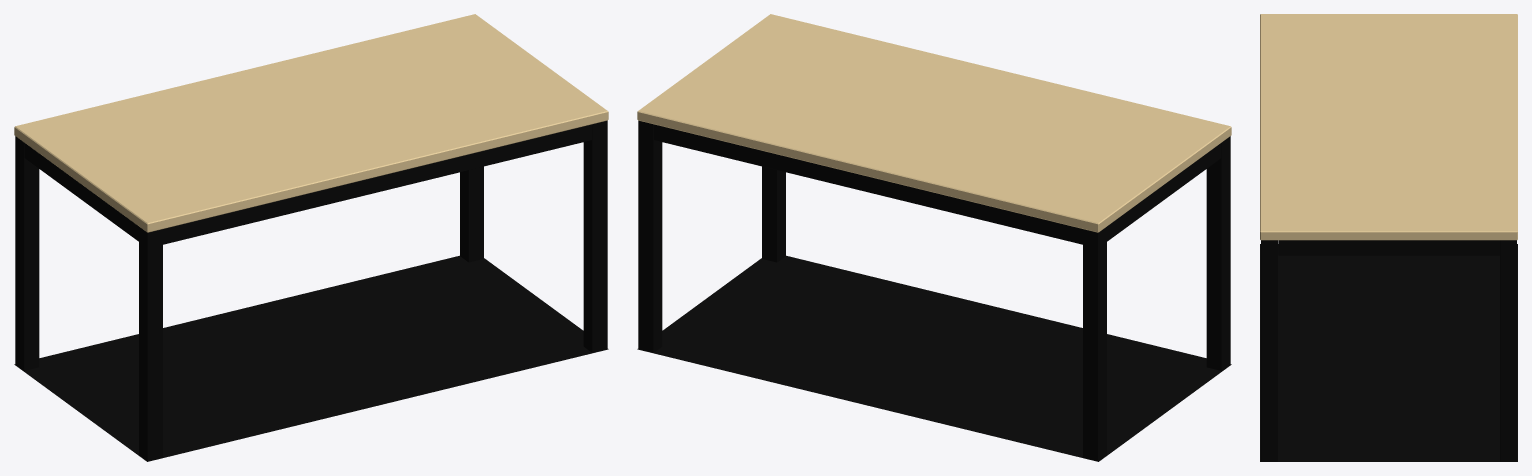
The picture shows the model from 3 angles, left to right: view 1: azimuth 30°, elevation 25°; view 2: azimuth 150°, elevation 25°; view 3: azimuth 270°, elevation 25°; orthographic projection. The views are drawn at different scales.
Visible parts, largest first — view 1: stand1; view 2: stand1; view 3: stand1.
Boxes of the visible parts, box(x1,y1,x2,y2) form: stand1: box(14, 14, 608, 461); stand1: box(637, 14, 1231, 461); stand1: box(1260, 14, 1517, 461).
Bounding box in the file's own units: 15000 × 7400 × 7500.
